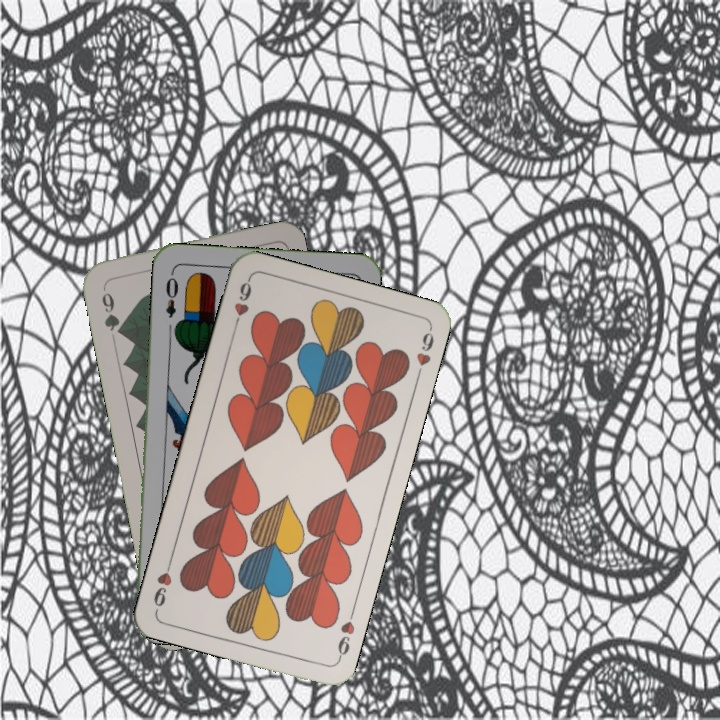EO: (161, 268, 181, 320)
G9: (97, 281, 126, 338)
H9: (229, 275, 254, 333), (333, 605, 358, 663)
